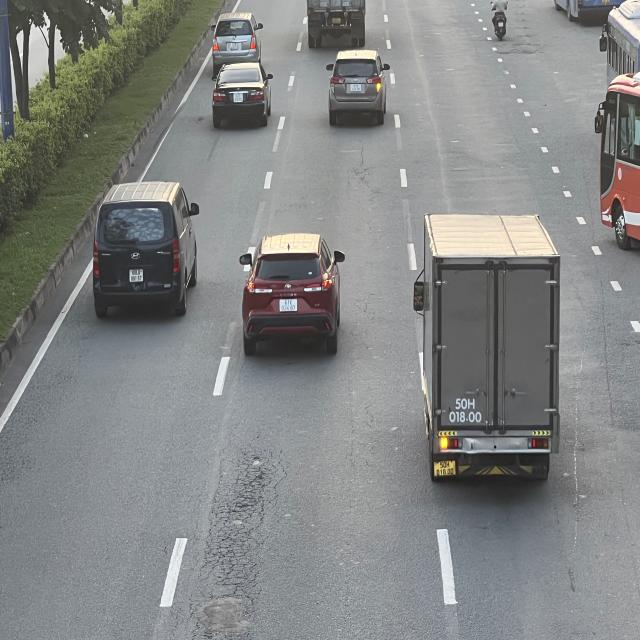car: (238, 232, 345, 356), (324, 48, 390, 123), (210, 62, 273, 124), (209, 12, 263, 64)
coach: (591, 72, 640, 248)
truck: (409, 209, 556, 484)
van: (92, 178, 200, 315)
